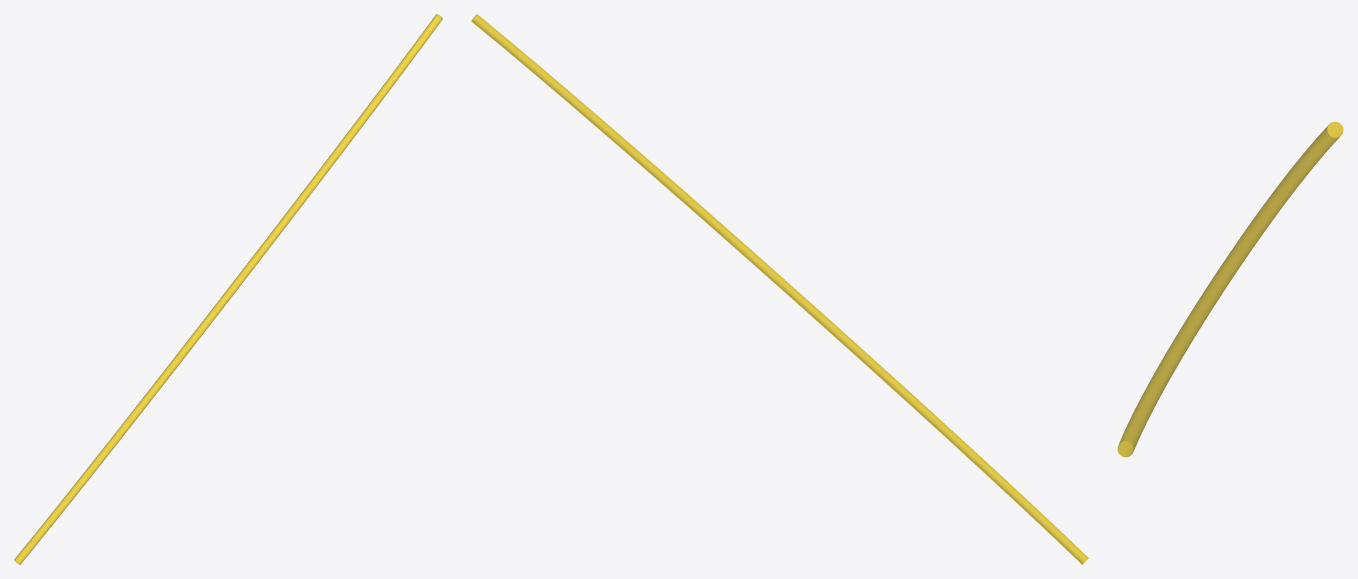
Rendered from Event_15818458_track_26.fbx.
3 renders of one model, left to right at view 1: azimuth 30°, elevation 25°; view 2: azimuth 150°, elevation 25°; view 3: azimuth 270°, elevation 25°, orthographic. The views are drawn at different scales.
Visible parts, largest first — view 1: Model; view 2: Model; view 3: Model.
Part boxes in pixels (x1=…): Model: x1=14, y1=14, x2=442, y2=564; Model: x1=471, y1=14, x2=1088, y2=564; Model: x1=1117, y1=121, x2=1343, y2=457.
Bounding box in the file's own units: 2.68 × 2.12 × 0.5466.
